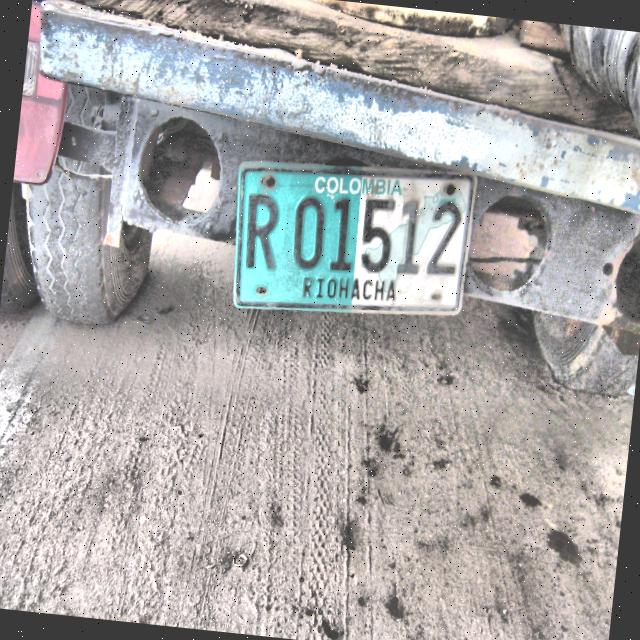0: (286, 192, 329, 271)
1: (324, 195, 359, 274), (392, 197, 426, 277)
2: (424, 198, 464, 278)
5: (357, 194, 397, 274)
R: (241, 192, 287, 271)
